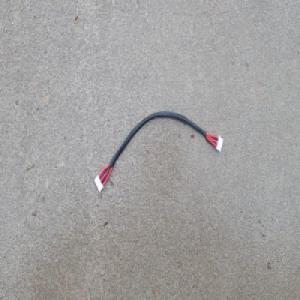Wire: (93, 109, 224, 194)
